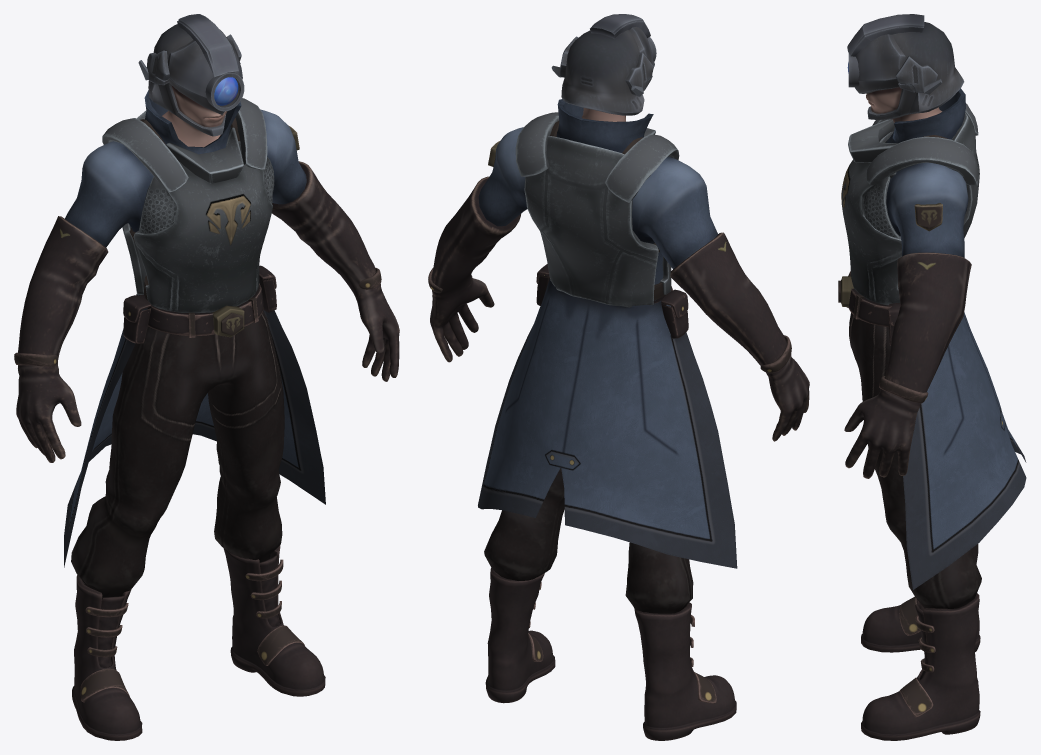
The model's file is Omni_Mage_Scaled.fbx.
3 views of the same model, side by side, from view 1: azimuth 30°, elevation 25°; view 2: azimuth 150°, elevation 25°; view 3: azimuth 270°, elevation 25° (orthographic).
Visible parts, largest first — view 1: Male_legs_Low, GlovesSolo_Low, ChestG_Low, Boots_Low, Shirt_Low, Skirt_Low, Shoulders_Low, FrontPlate_Low, NeckPiece_Low, HelmMohak_Low, Belt_Low, SidePacks_Low (+12 smaller); view 2: Skirt_Low, GlovesSolo_Low, BackGuard_Low, Boots_Low, Shirt_Low, Male_legs_Low, HelmTop_Low, Shoulders_Low, SidePacks_Low, HelmMohak_Low, SideHelm_Low; view 3: Skirt_Low, GlovesSolo_Low, Boots_Low, Shirt_Low, Male_legs_Low, ChestG_Low, HelmTop_Low, Shoulders_Low, FrontPlate_Low, HelmMohak_Low, NeckPiece_Low, UnderFront_Low (+11 smaller).
Boxes of the visible parts, x1,y1,x2,y2 form: Male_legs_Low: (71,311,284,599); GlovesSolo_Low: (16,161,399,462); ChestG_Low: (133,141,272,313); Boots_Low: (72,545,325,740); Shirt_Low: (65,90,306,280); Skirt_Low: (64,294,325,567); Shoulders_Low: (102,98,267,192); FrontPlate_Low: (168,37,242,114); NeckPiece_Low: (166,127,243,183); HelmMohak_Low: (177,14,238,77); Belt_Low: (139,283,263,336); SidePacks_Low: (123,265,276,343); Skirt_Low: (478,278,737,568); GlovesSolo_Low: (430,176,809,441); BackGuard_Low: (524,136,658,307); Boots_Low: (485,567,736,740); Shirt_Low: (478,99,717,300); Male_legs_Low: (484,467,693,613); HelmTop_Low: (561,30,644,115); Shoulders_Low: (515,112,679,202); SidePacks_Low: (536,264,688,338); HelmMohak_Low: (590,14,650,38); SideHelm_Low: (559,36,653,95); Skirt_Low: (903,312,1026,589); GlovesSolo_Low: (844,252,971,478); Boots_Low: (861,544,980,740); Shirt_Low: (886,88,968,257); Male_legs_Low: (849,313,981,608); ChestG_Low: (841,131,901,305); HelmTop_Low: (867,22,964,119); Shoulders_Low: (866,103,978,185); FrontPlate_Low: (855,34,905,93); HelmMohak_Low: (847,14,924,56); NeckPiece_Low: (848,119,897,162); UnderFront_Low: (863,176,899,237).
Size of the model in its own units: 62.22 by 109 by 27.81.
